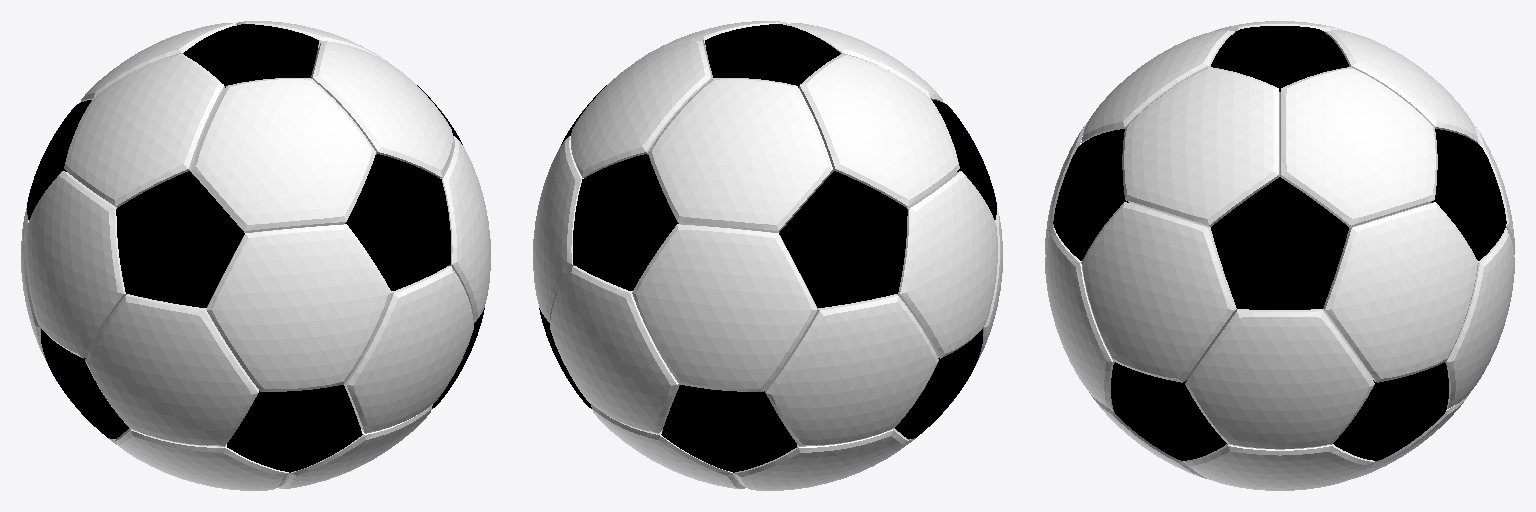
3 views of the same model, side by side, from view 1: azimuth 30°, elevation 25°; view 2: azimuth 150°, elevation 25°; view 3: azimuth 270°, elevation 25° (orthographic).
Visible parts, largest first — view 1: obj1; view 2: obj1; view 3: obj1.
Part boxes in pixels (x1,y1,x2,y2): obj1: (21,21,490,490); obj1: (533,21,1002,490); obj1: (1045,21,1514,490).
Bounding box in the file's own units: 2.02 × 2.03 × 2.02.
Materials: 1 (1 with a texture image).